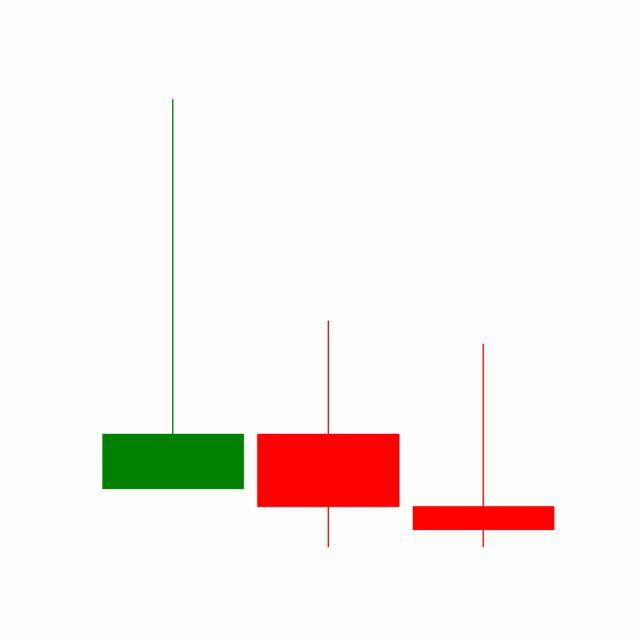Gravestone Doji: (406, 342, 562, 551)
